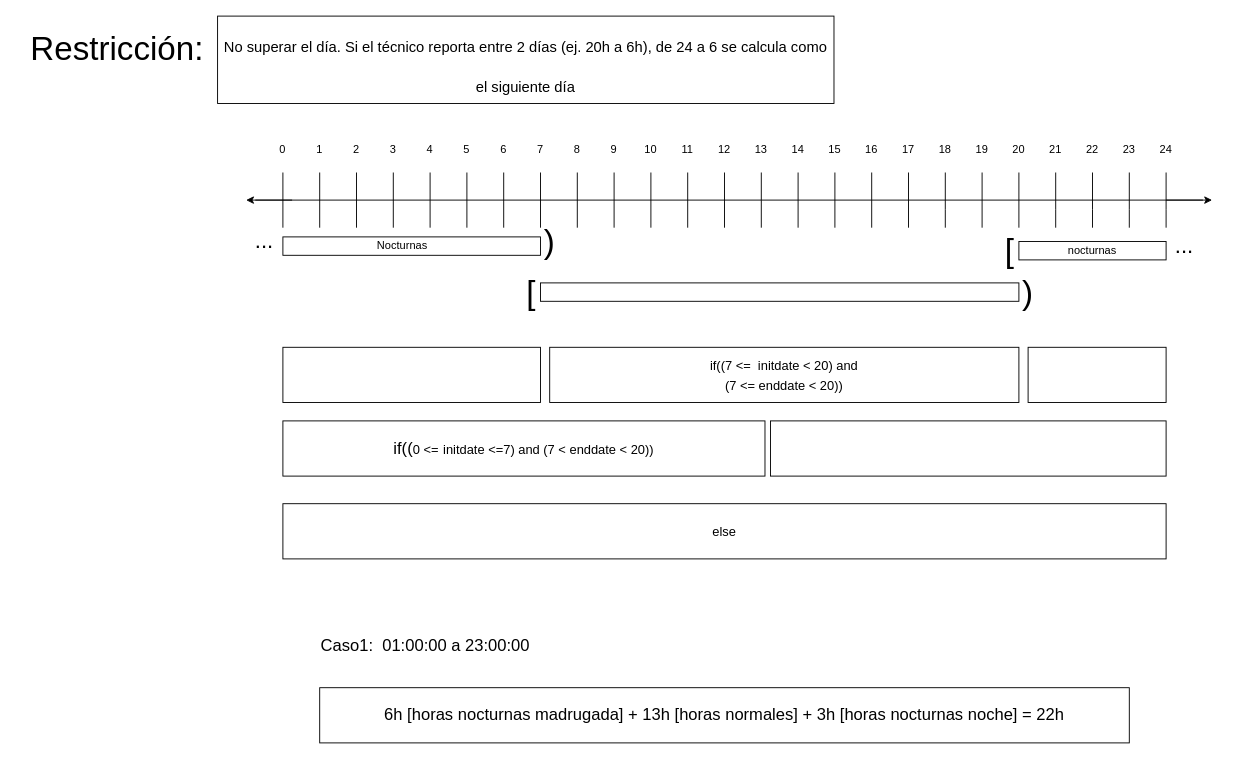
The diagram is 1236 pixels wide and 759 high, and some of its shapes have lost their labels. The centre of each missing label's shape, as x and y in pixels:
"if((0 <= initdate < 7) and (0 <= enddate < 7))" goes at [411,374].
"if((20 <= initdate < 24) and (20 <= enddate < 24))" goes at [1096,374].
"if((7 <=initdate <=20) and (20 <= enddate <= 24))" goes at [968,448].
"Normales" goes at [779,291].
